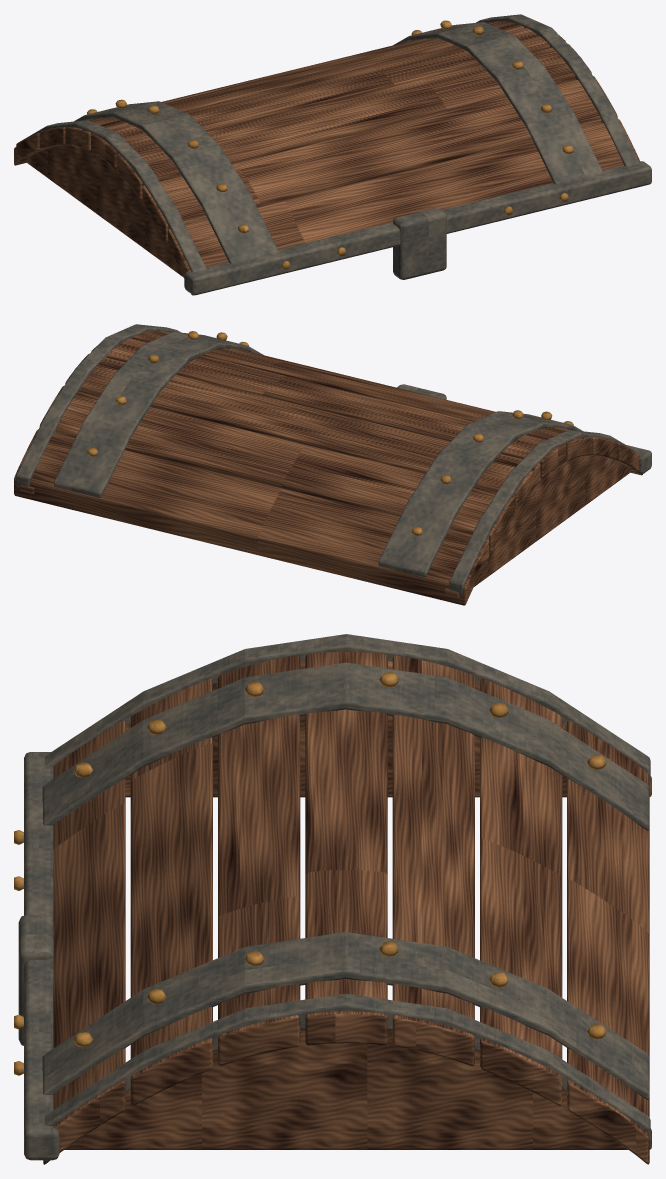
File: coffer_lid.glb
3 views of the same model, one above another, from view 1: azimuth 30°, elevation 25°; view 2: azimuth 150°, elevation 25°; view 3: azimuth 270°, elevation 25° (orthographic). The views are drawn at different scales.
Visible parts, largest first — view 1: TexturedSurface.001, BindingIron.001; view 2: TexturedSurface.001, BindingIron.001; view 3: TexturedSurface.001, BindingIron.001.
Boxes of the visible parts, x1=… form: TexturedSurface.001: x1=14, y1=20, x2=640, y2=295; BindingIron.001: x1=16, y1=14, x2=651, y2=295; TexturedSurface.001: x1=14, y1=331, x2=642, y2=605; BindingIron.001: x1=16, y1=324, x2=651, y2=595; TexturedSurface.001: x1=14, y1=652, x2=651, y2=1164; BindingIron.001: x1=24, y1=634, x2=650, y2=1160.
Size of the model in its own units: 0.992 by 0.2672 by 0.7005.
3 materials, 3 textured.
